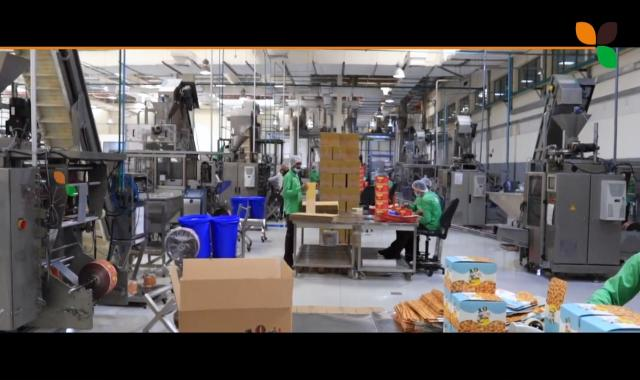hairnet: (413, 177, 427, 192), (288, 153, 300, 170)
